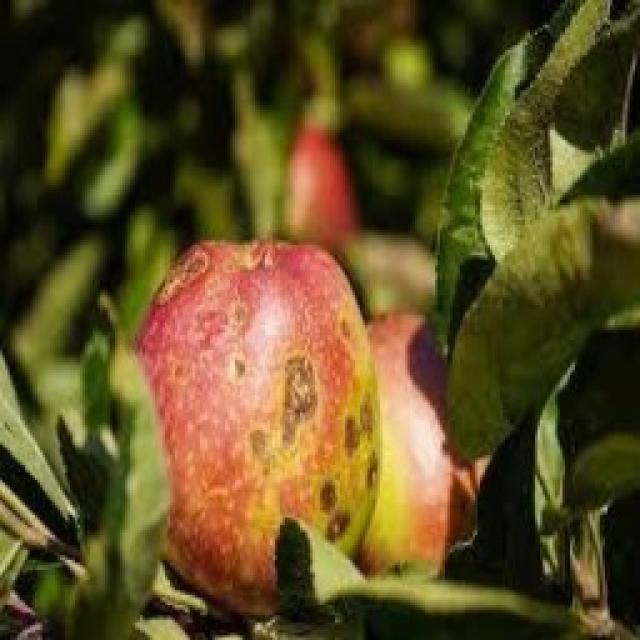defective: (130, 232, 382, 618)
